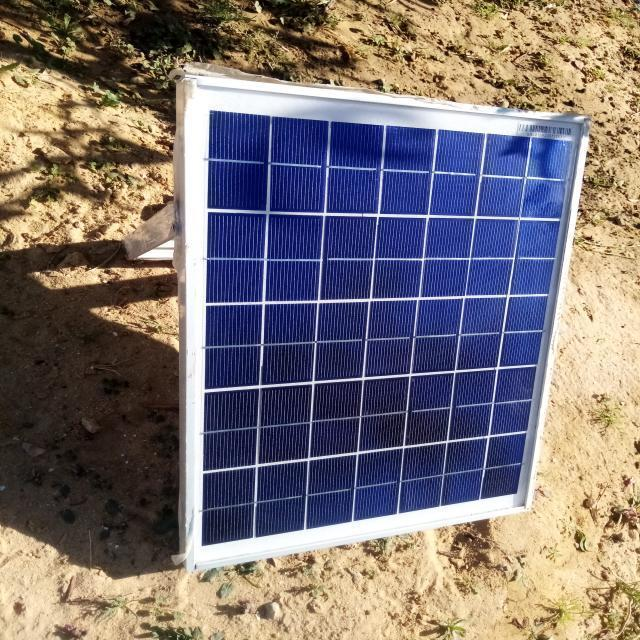Normal Solar Panel: (189, 77, 589, 568)
